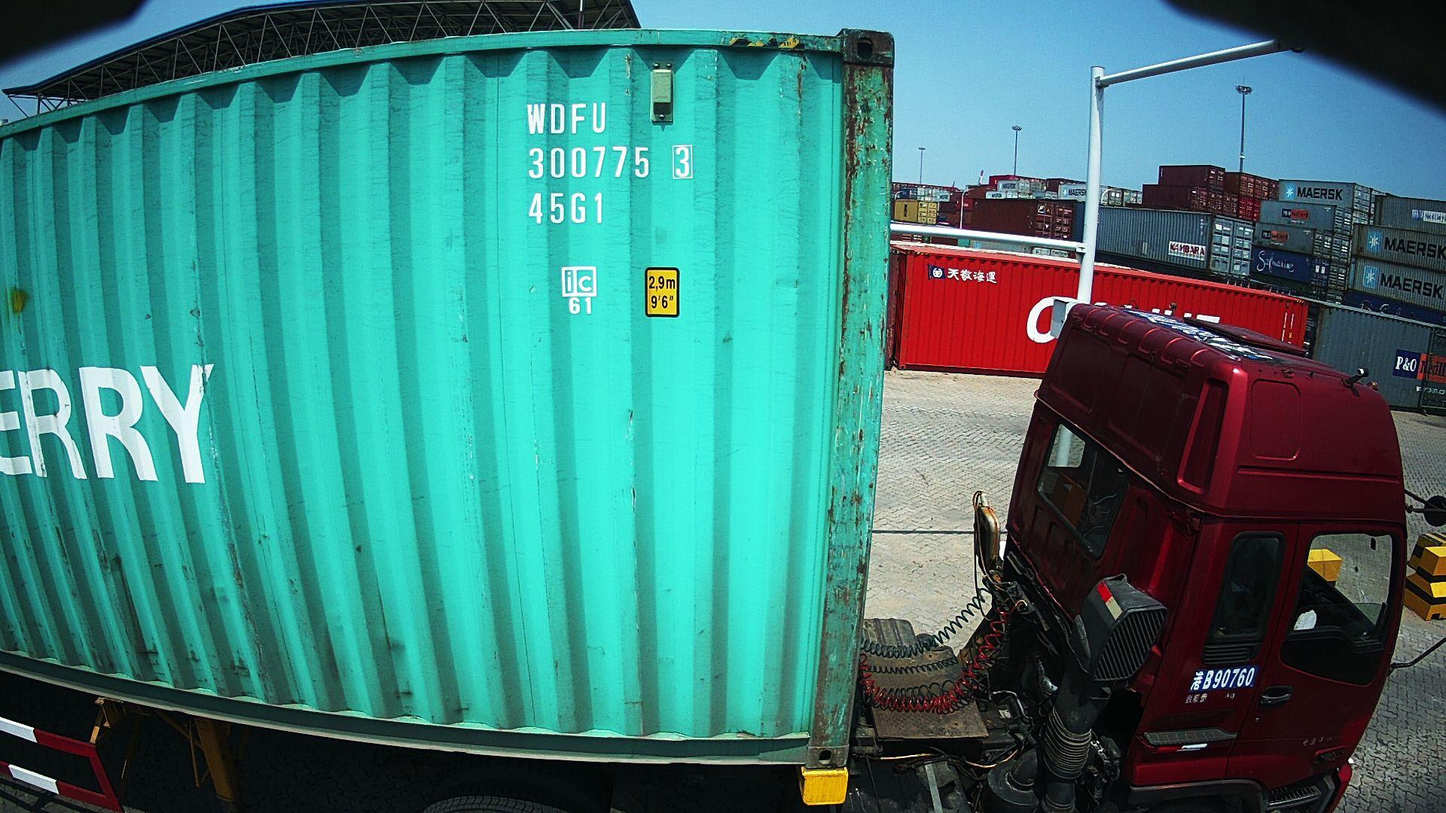container-numbers: (528, 141, 697, 184), (525, 99, 609, 139), (526, 188, 607, 227)
